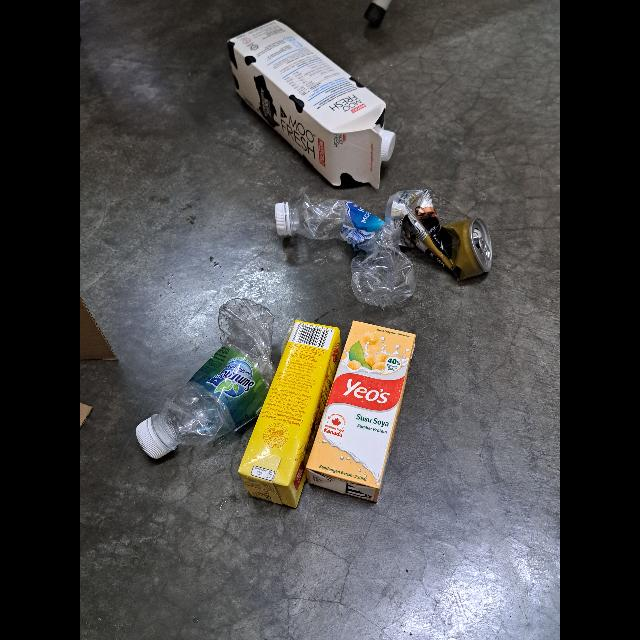aba de lata: (480, 237, 490, 261)
caixinha: (226, 18, 388, 190), (304, 319, 418, 505), (236, 320, 342, 510)
garrafa plástica: (158, 300, 276, 448), (288, 194, 418, 306)
lata: (384, 190, 492, 282)
papelão: (80, 286, 120, 432)
tampa plástica: (135, 419, 169, 458), (378, 130, 396, 162), (274, 202, 290, 236)
